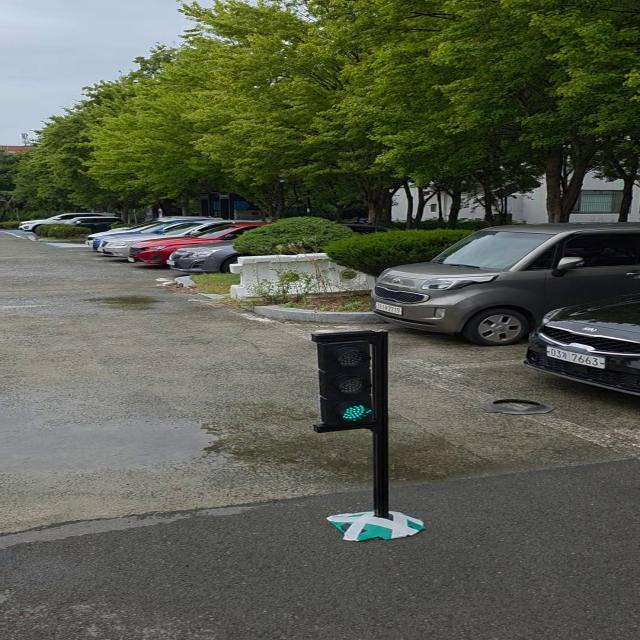green: (316, 332, 386, 428)
